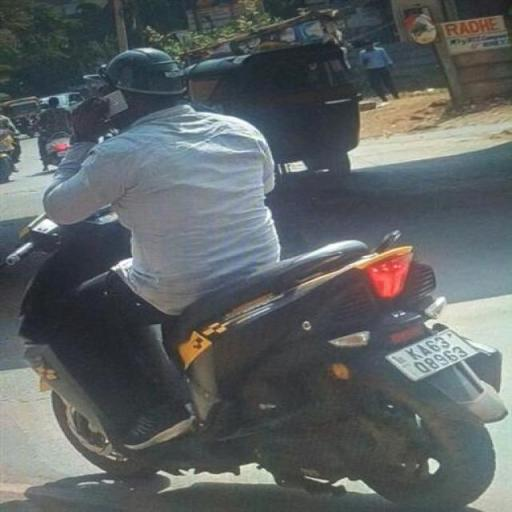using mobile: (66, 86, 137, 124)
